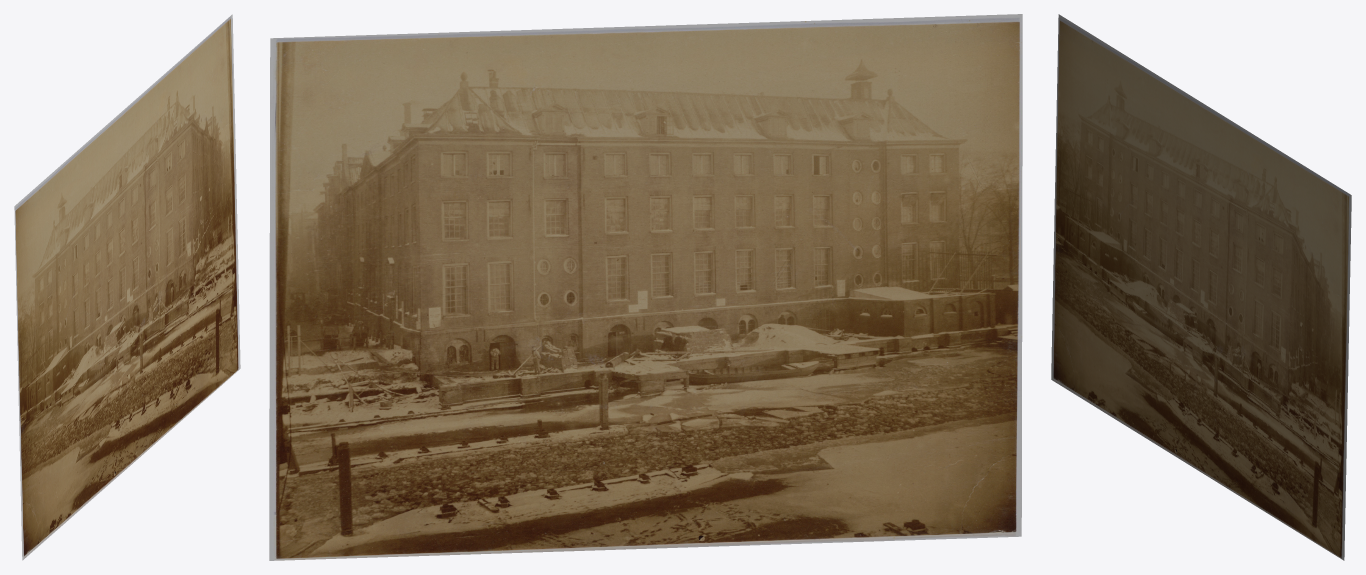
File: 1880s_diaconie_weeshuis_oude_versie_AdamArch.glb
The picture shows the model from 3 angles, left to right: view 1: azimuth 30°, elevation 25°; view 2: azimuth 150°, elevation 25°; view 3: azimuth 270°, elevation 25°; orthographic projection. The views are drawn at different scales.
Parts seen in each view (by area): view 1: 1880s_diaconie_weeshuis_oude_versie_AdamArch; view 2: 1880s_diaconie_weeshuis_oude_versie_AdamArch; view 3: 1880s_diaconie_weeshuis_oude_versie_AdamArch.
Boxes of the visible parts, x1=… form: 1880s_diaconie_weeshuis_oude_versie_AdamArch: x1=14, y1=14, x2=240, y2=560; 1880s_diaconie_weeshuis_oude_versie_AdamArch: x1=269, y1=14, x2=1022, y2=560; 1880s_diaconie_weeshuis_oude_versie_AdamArch: x1=1051, y1=14, x2=1351, y2=560.
Bounding box in the file's own units: 19.57 × 18.1 × 13.56.
1 material, 1 textured.
